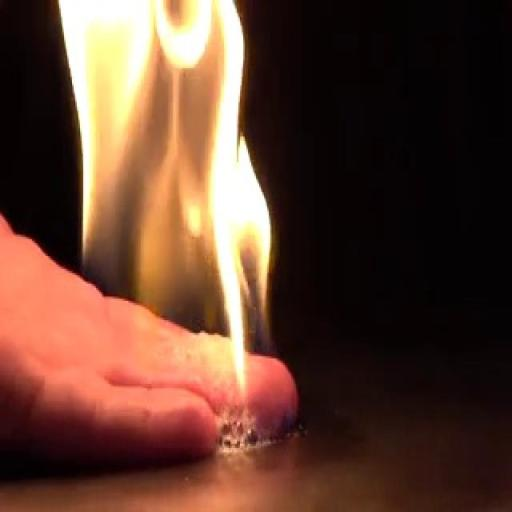smoke: (50, 2, 265, 391)
